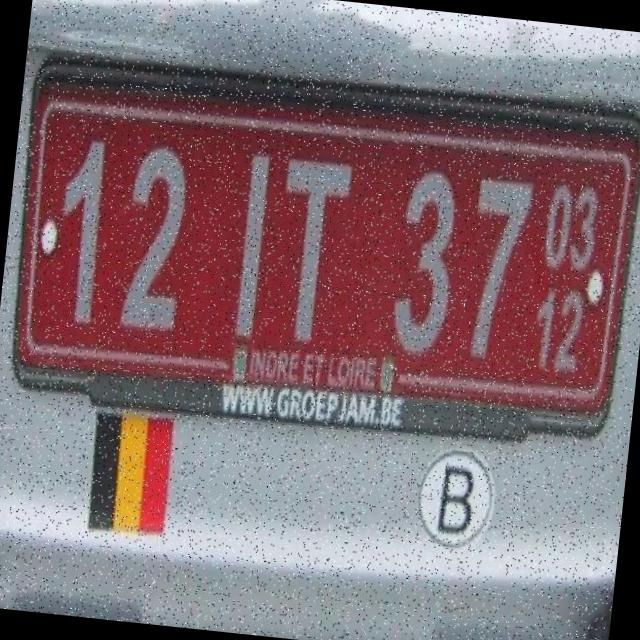LicensePlate: (3, 64, 640, 447)
